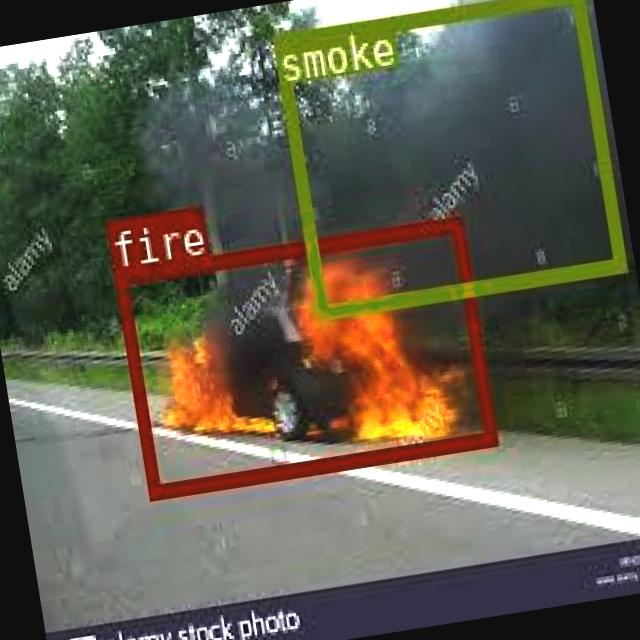fire: (113, 214, 496, 498)
smoke: (270, 0, 625, 317)
